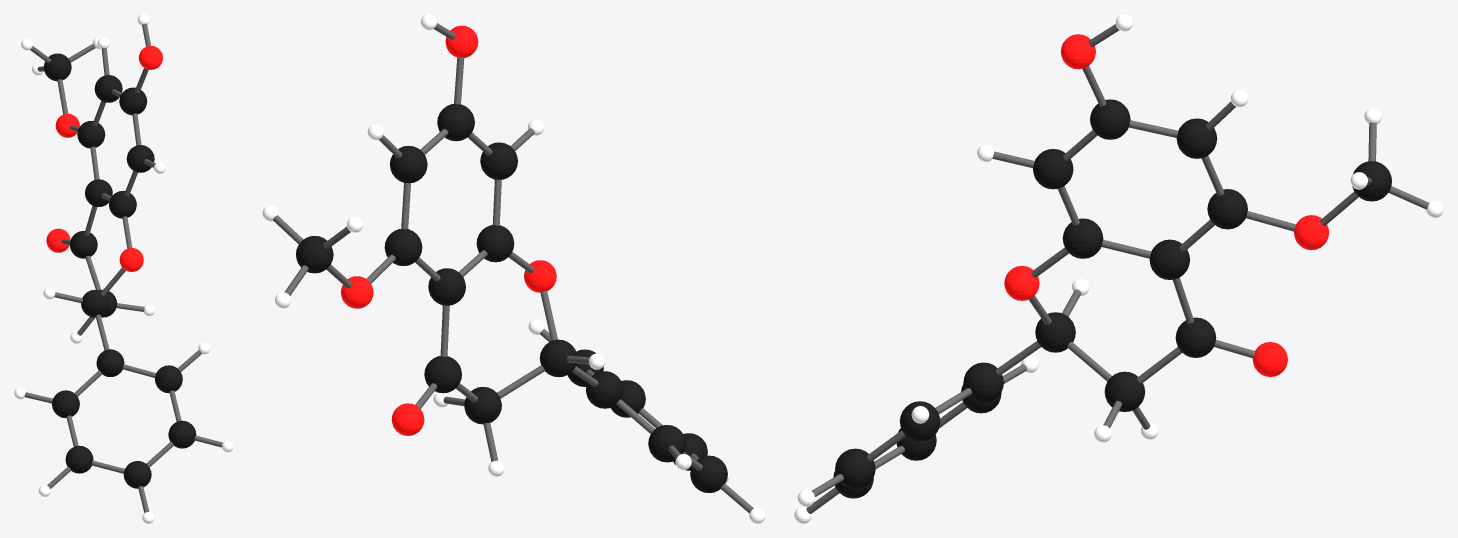
Rendered from molecule.glb.
The picture shows the model from 3 angles, left to right: view 1: azimuth 30°, elevation 25°; view 2: azimuth 150°, elevation 25°; view 3: azimuth 270°, elevation 25°; orthographic projection. The views are drawn at different scales.
Visible parts, largest first — view 1: geometry_13, geometry_15, geometry_17, geometry_14, geometry_18, geometry_16, geometry_0, geometry_4, geometry_9, geometry_2, geometry_7, geometry_12 (+7 smaller); view 2: geometry_7, geometry_2, geometry_8, geometry_9, geometry_4, geometry_6, geometry_3, geometry_13, geometry_15, geometry_0, geometry_11, geometry_12 (+6 smaller); view 3: geometry_4, geometry_9, geometry_2, geometry_6, geometry_8, geometry_3, geometry_7, geometry_13, geometry_17, geometry_12, geometry_11, geometry_18 (+5 smaller).
Boxes of the visible parts, x1=… form: geometry_13: x1=96, y1=349, x2=124, y2=376; geometry_15: x1=65, y1=445, x2=93, y2=473; geometry_17: x1=168, y1=420, x2=196, y2=448; geometry_14: x1=52, y1=390, x2=79, y2=418; geometry_18: x1=155, y1=365, x2=182, y2=393; geometry_16: x1=123, y1=461, x2=151, y2=488; geometry_0: x1=43, y1=53, x2=71, y2=81; geometry_4: x1=119, y1=87, x2=147, y2=115; geometry_9: x1=69, y1=231, x2=97, y2=258; geometry_2: x1=77, y1=121, x2=105, y2=148; geometry_7: x1=109, y1=191, x2=136, y2=218; geometry_12: x1=81, y1=290, x2=108, y2=317; geometry_7: x1=476, y1=225, x2=514, y2=262; geometry_2: x1=384, y1=229, x2=422, y2=265; geometry_8: x1=428, y1=268, x2=465, y2=305; geometry_9: x1=424, y1=356, x2=461, y2=393; geometry_4: x1=437, y1=104, x2=474, y2=141; geometry_6: x1=480, y1=142, x2=517, y2=179; geometry_3: x1=390, y1=146, x2=427, y2=183; geometry_13: x1=586, y1=371, x2=623, y2=408; geometry_15: x1=690, y1=455, x2=727, y2=492; geometry_0: x1=296, y1=236, x2=333, y2=273; geometry_11: x1=464, y1=387, x2=501, y2=424; geometry_12: x1=539, y1=339, x2=576, y2=377; geometry_4: x1=1090, y1=99, x2=1130, y2=139; geometry_9: x1=1175, y1=317, x2=1216, y2=357; geometry_2: x1=1207, y1=189, x2=1247, y2=229; geometry_6: x1=1033, y1=149, x2=1073, y2=189; geometry_8: x1=1149, y1=239, x2=1189, y2=279; geometry_3: x1=1176, y1=118, x2=1217, y2=158; geometry_7: x1=1062, y1=218, x2=1103, y2=258; geometry_13: x1=963, y1=362, x2=1003, y2=402; geometry_17: x1=835, y1=448, x2=875, y2=488; geometry_12: x1=1035, y1=312, x2=1075, y2=352; geometry_11: x1=1104, y1=371, x2=1145, y2=411; geometry_18: x1=899, y1=401, x2=940, y2=441.
Bounding box in the file's own units: 0.1445 × 0.2548 × 0.257.
